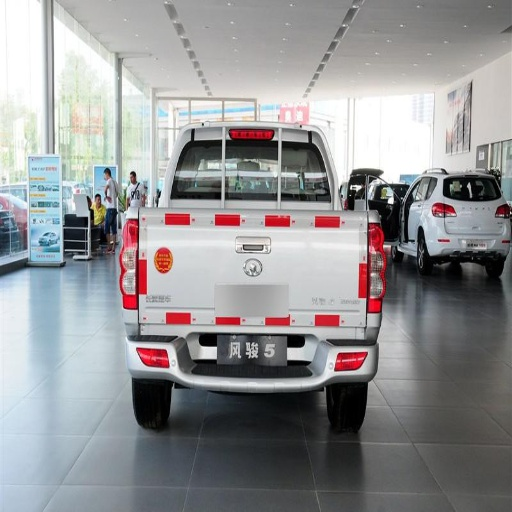back_bumper: (124, 311, 379, 394)
trunk: (136, 201, 364, 339)
